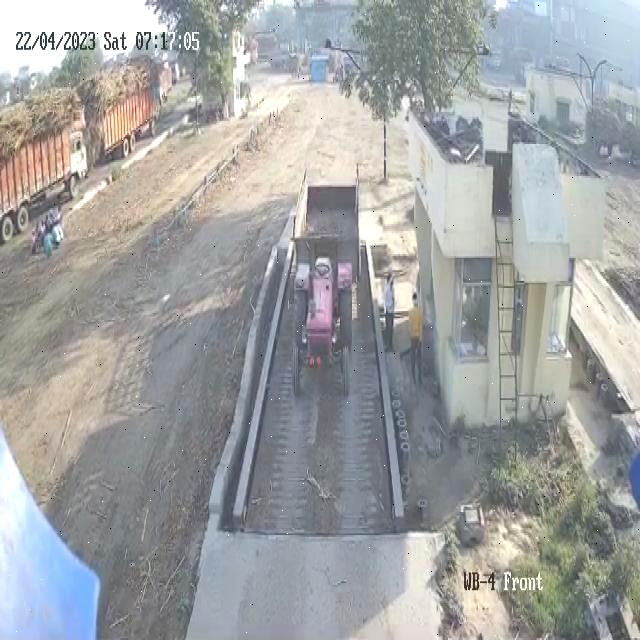Tratores - v5 YOLO V8L 2024-11-13: (291, 258, 351, 402)
